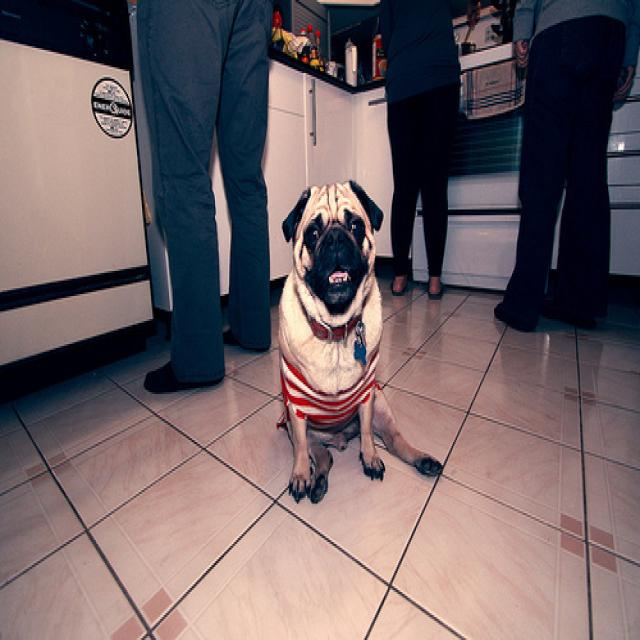dog-pug: (274, 173, 387, 400)
